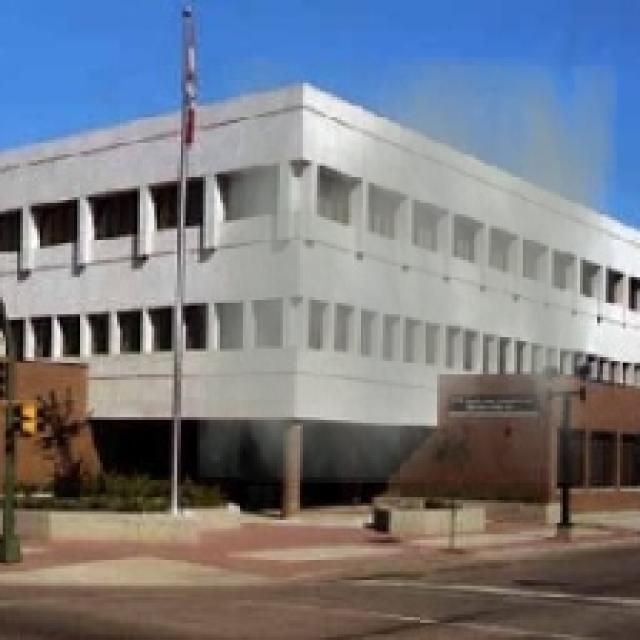Smoke: (197, 57, 617, 483)
